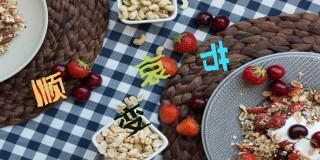变: (113, 103, 152, 135)
哀: (135, 54, 171, 87)
节: (199, 40, 229, 72)
顺: (30, 71, 68, 107)
